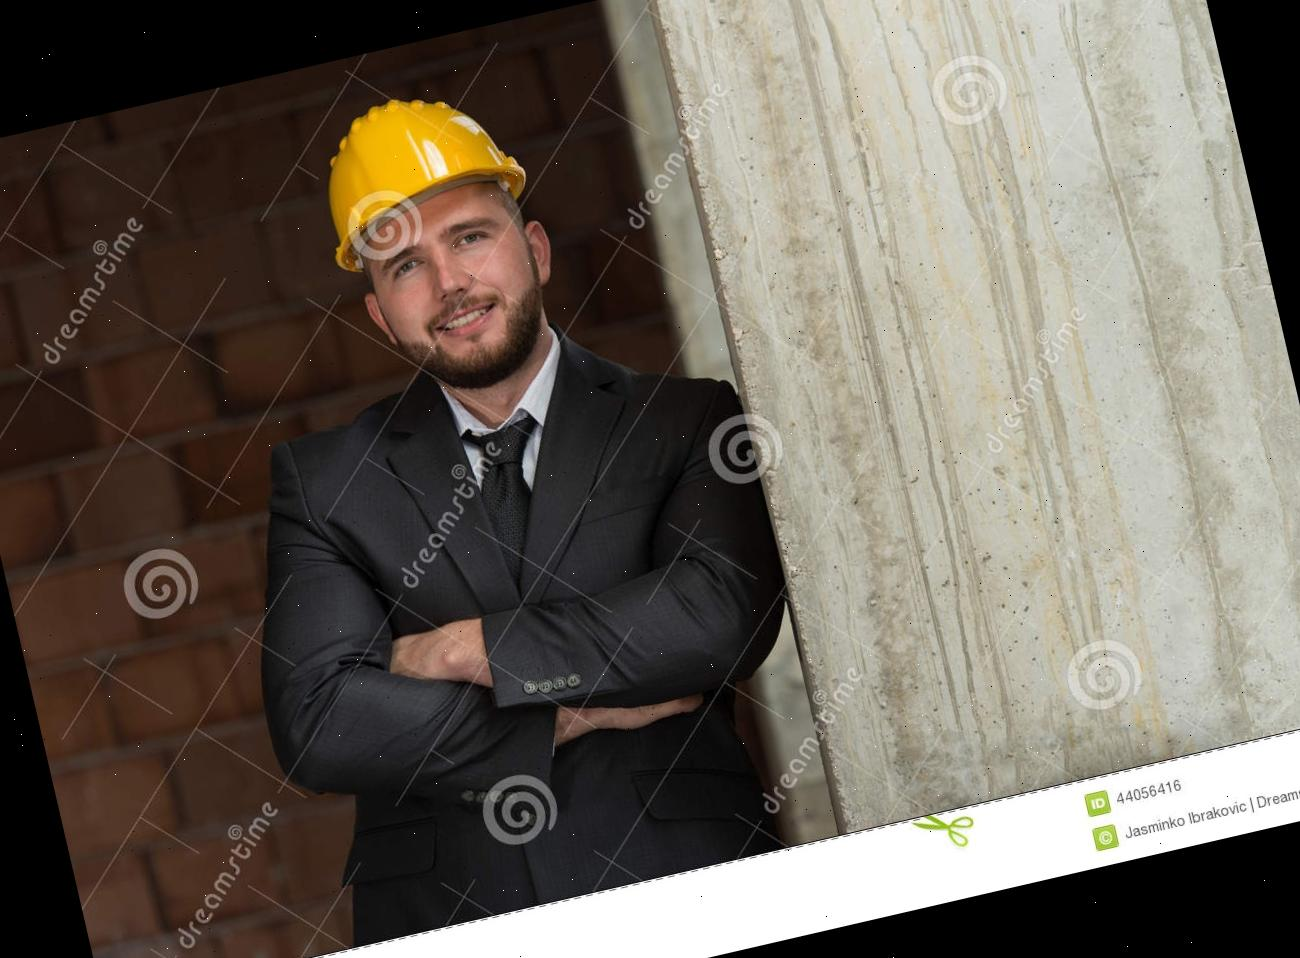helmet: (298, 64, 531, 264)
no_wear: (242, 331, 828, 952)
